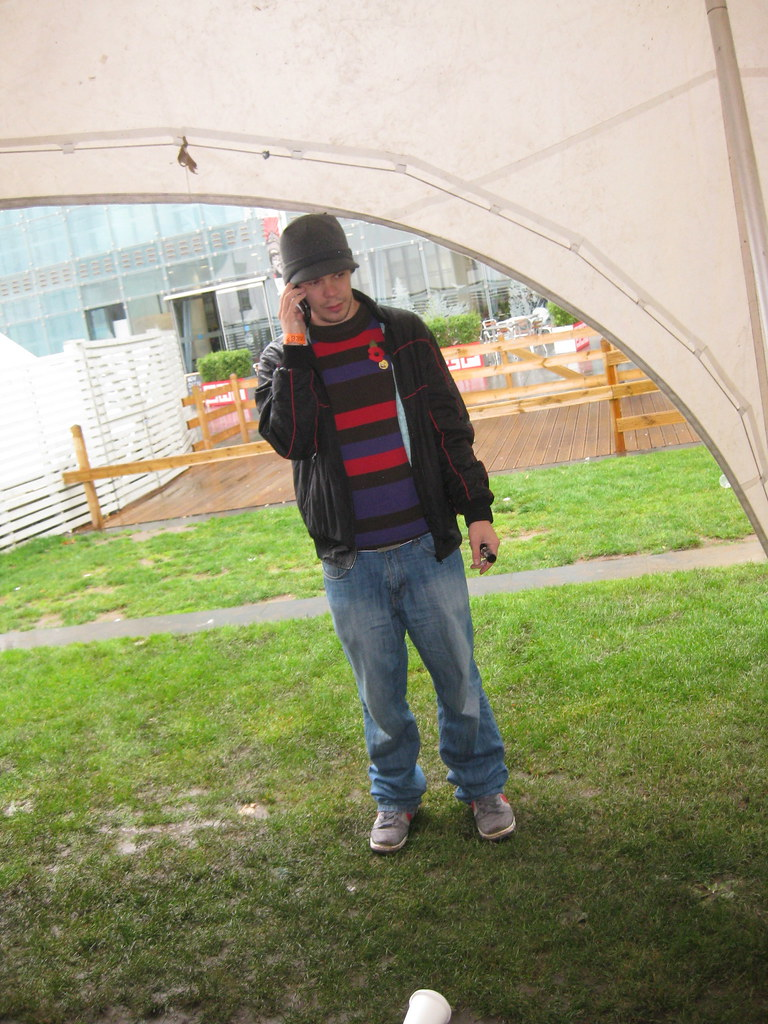phone: (275, 284, 322, 336)
talk: (278, 261, 361, 352)
